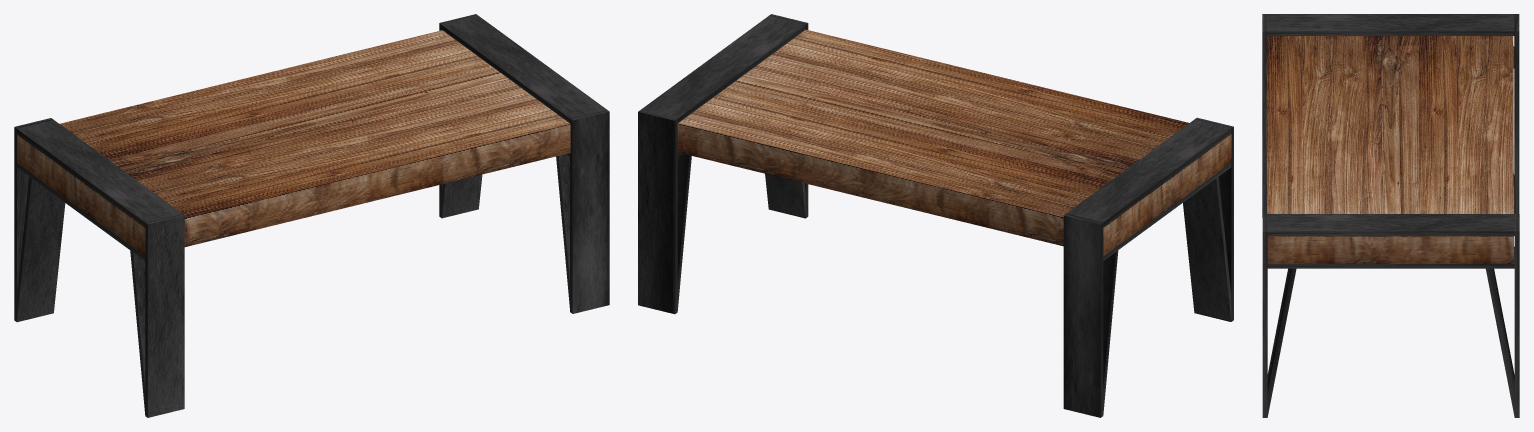
The model's file is table_4.glb.
3 renders of one model, left to right at view 1: azimuth 30°, elevation 25°; view 2: azimuth 150°, elevation 25°; view 3: azimuth 270°, elevation 25°, orthographic. The views are drawn at different scales.
Visible parts, largest first — view 1: plateau.001, Cube.004, Cube, Cube.005, Cube.006, Cube.010, Cube.003, Cube.012, Cube.011, Cube.009, Cube.008; view 2: plateau.001, Cube.003, Cube.002, Cube.006, Cube.005, Cube.011, Cube.004, Cube.009, Cube.012, Cube.010, Cube.008; view 3: plateau.001, Cube.006, Cube.005, Cube.007, Cube.002, Cube, Cube.003, Cube.009, Cube.012, Cube.004.
Part boxes in pixels (x1=…): plateau.001: x1=17, y1=30, x2=570, y2=256; Cube.004: x1=145, y1=213, x2=184, y2=417; Cube: x1=570, y1=109, x2=609, y2=313; Cube.005: x1=17, y1=120, x2=181, y2=226; Cube.006: x1=442, y1=16, x2=606, y2=122; Cube.010: x1=17, y1=177, x2=65, y2=322; Cube.003: x1=14, y1=118, x2=53, y2=321; Cube.012: x1=442, y1=174, x2=482, y2=218; Cube.011: x1=130, y1=250, x2=145, y2=414; Cube.009: x1=556, y1=154, x2=569, y2=307; Cube.008: x1=17, y1=163, x2=145, y2=260; plateau.001: x1=677, y1=29, x2=1231, y2=255; Cube.003: x1=1063, y1=213, x2=1103, y2=417; Cube.002: x1=638, y1=110, x2=677, y2=314; Cube.006: x1=641, y1=16, x2=805, y2=123; Cube.005: x1=1066, y1=119, x2=1231, y2=226; Cube.011: x1=1183, y1=176, x2=1231, y2=320; Cube.004: x1=1194, y1=117, x2=1233, y2=321; Cube.009: x1=765, y1=173, x2=805, y2=217; Cube.012: x1=677, y1=154, x2=691, y2=310; Cube.010: x1=1103, y1=250, x2=1118, y2=413; Cube.008: x1=1103, y1=163, x2=1231, y2=260; plateau.001: x1=1266, y1=36, x2=1513, y2=263; Cube.006: x1=1267, y1=214, x2=1514, y2=235; Cube.005: x1=1267, y1=14, x2=1514, y2=35; Cube.007: x1=1267, y1=246, x2=1514, y2=268; Cube.002: x1=1514, y1=214, x2=1519, y2=417; Cube: x1=1262, y1=214, x2=1267, y2=417; Cube.003: x1=1514, y1=14, x2=1519, y2=213; Cube.009: x1=1267, y1=268, x2=1296, y2=416; Cube.012: x1=1486, y1=268, x2=1514, y2=416; Cube.004: x1=1262, y1=14, x2=1267, y2=217.
Size of the model in its own units: 1 by 0.4 by 0.5009.
Materials: 13 (13 with a texture image).
